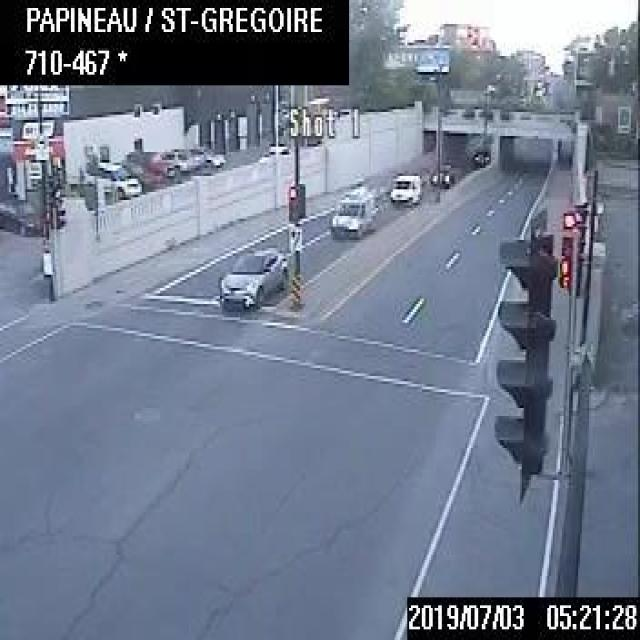vehicle: (218, 243, 287, 309), (329, 186, 378, 238), (84, 156, 141, 197), (0, 196, 42, 233), (126, 149, 174, 179), (387, 168, 420, 203), (427, 163, 451, 184), (471, 149, 491, 163)
